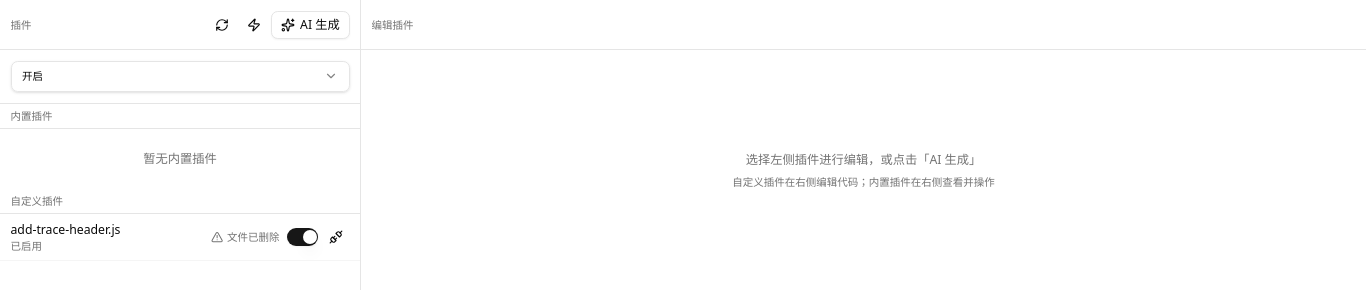
Test: PluginConfig list|edit › loaded plugin whose file was deleted › closes the details pane of the unloaded plugin
Click the element with test id "plugin-config-row-custom-deleted-add-trace-header" at [180, 237], box [0,214,360,260]
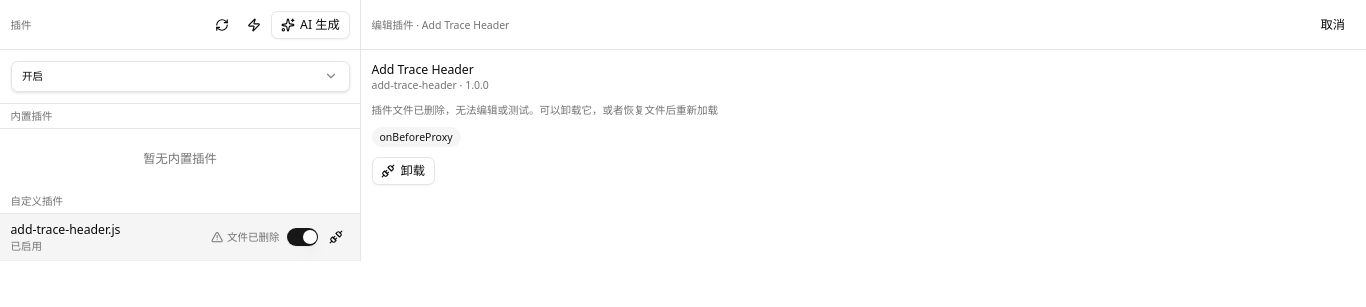
Result: the element with test id "plugin-config-edit" shows "add-trace-header · 1.0.0"
Click the button named "卸载插件 add-trace-header.js" at [336, 237], box [322,223,350,251]
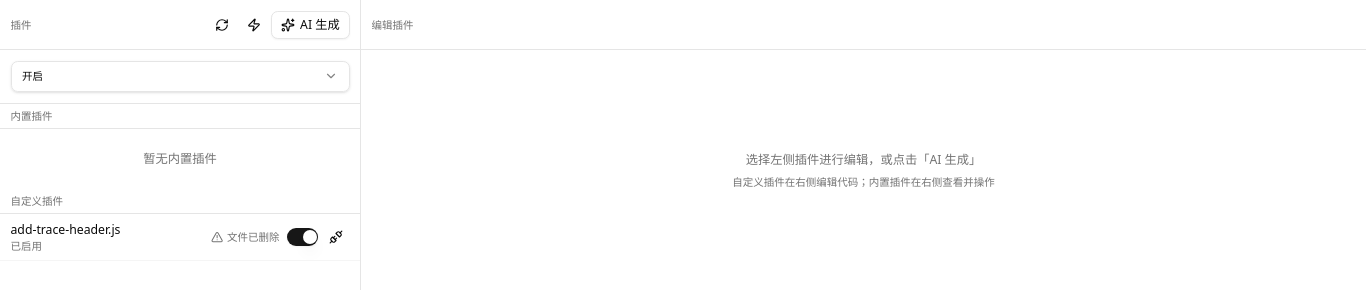
Result: the text "选择左侧插件进行编辑，或点击「AI 生成」" is shown at [746,151,981,168]
